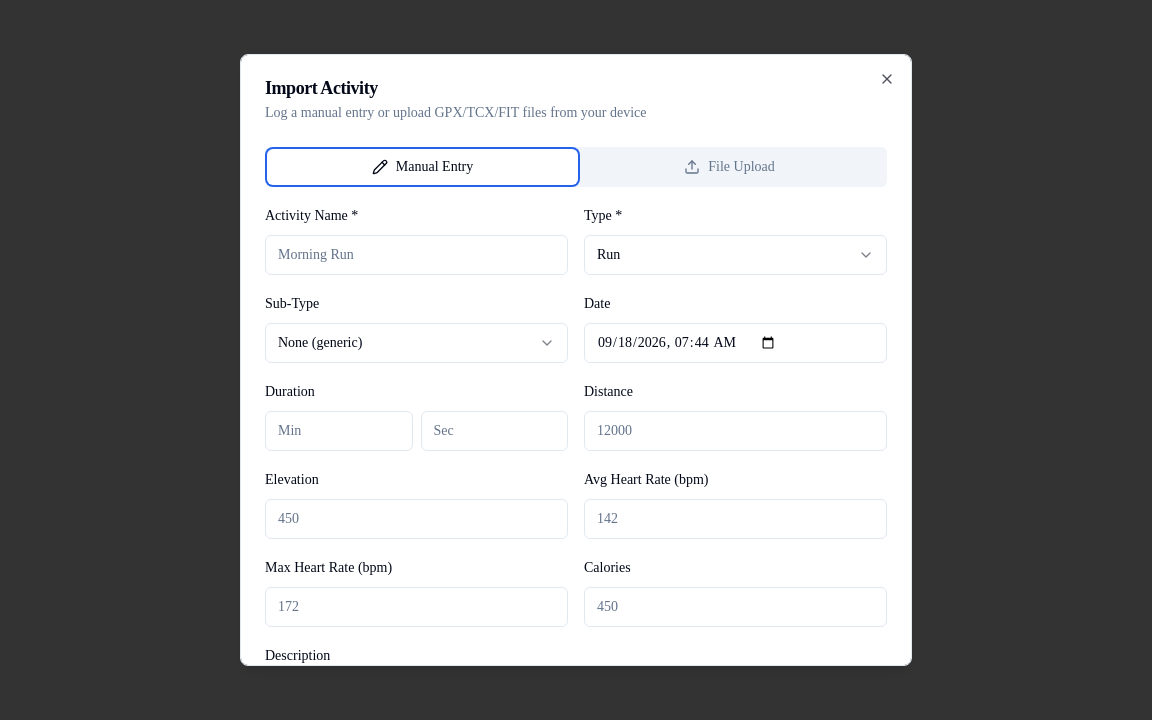
ImportModal › shows server error on failed submit
The image size is (1152, 720).
Type "Test Run" into the field with placeholder "Morning Run" at (416, 255), box [265,235,568,275]
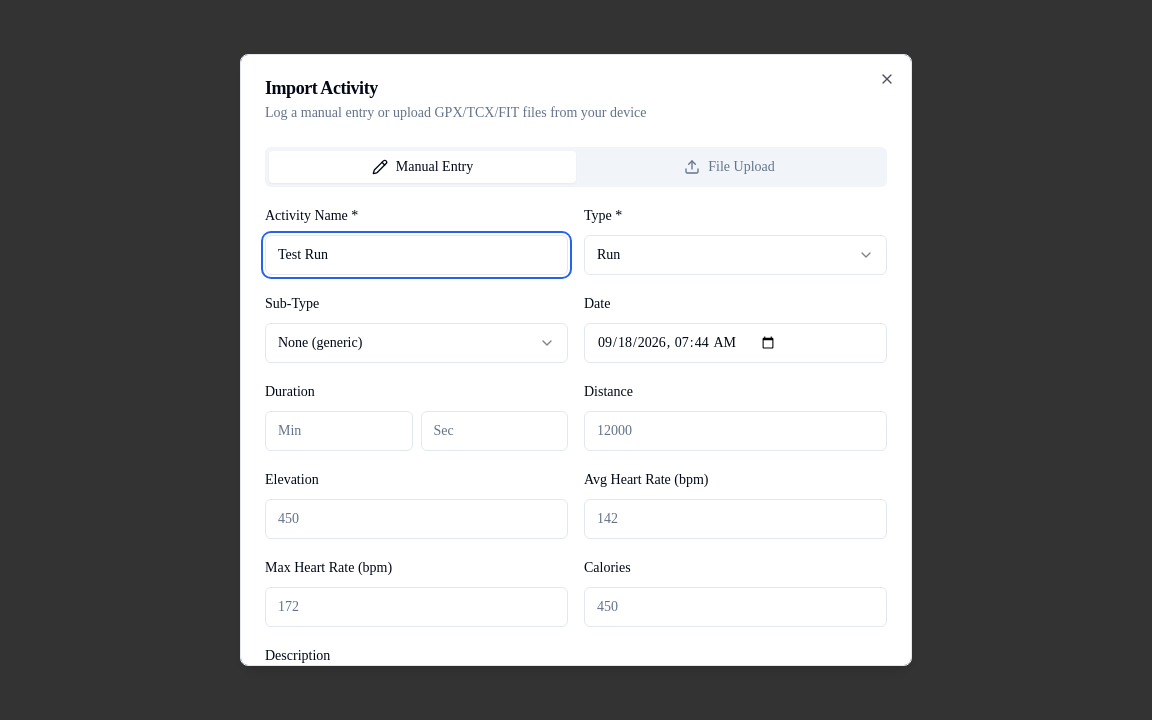
Type "30" into the number field with placeholder "Min" at (339, 431), box [265,411,412,451]
(page scrolled)
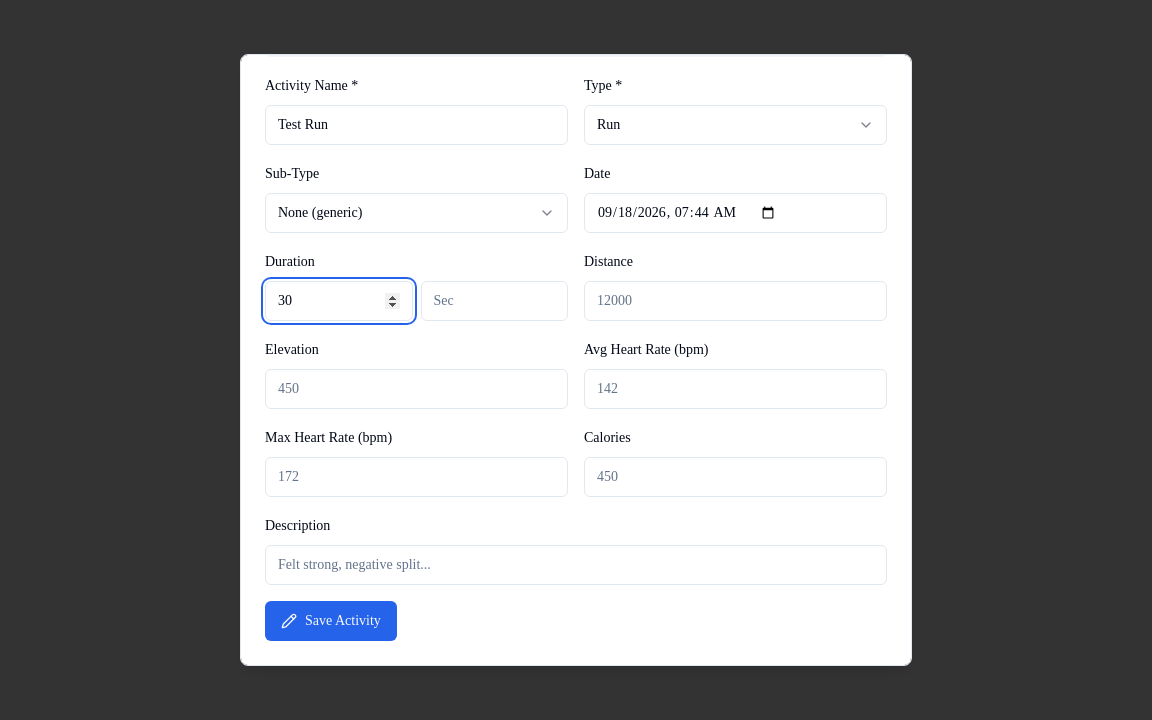
Click the button "Save Activity" at (331, 621), box [265,601,397,641]
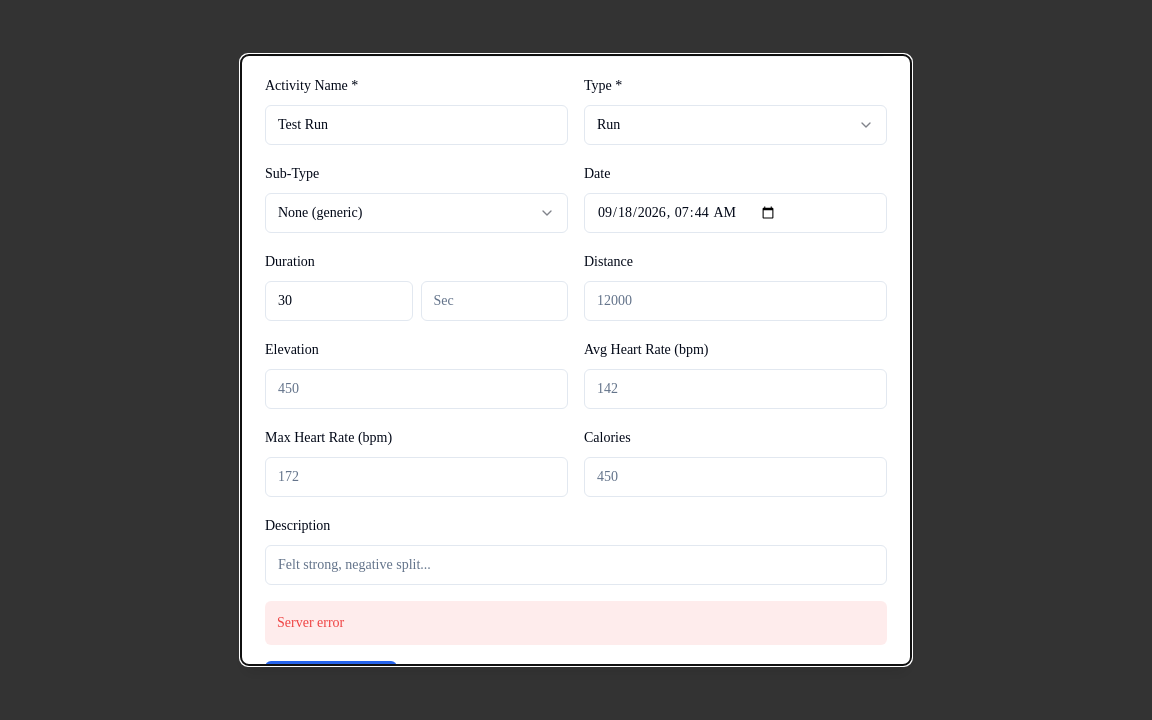
Now the dialog shows "Server error", box [277,615,344,630]
